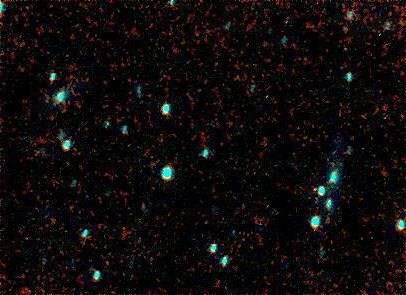star: (300, 176, 330, 206)
